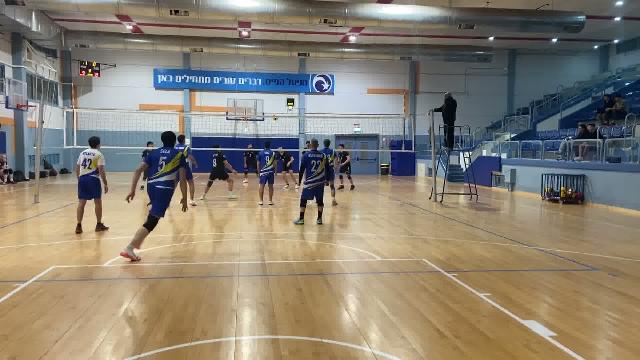ball: (271, 113, 282, 123)
